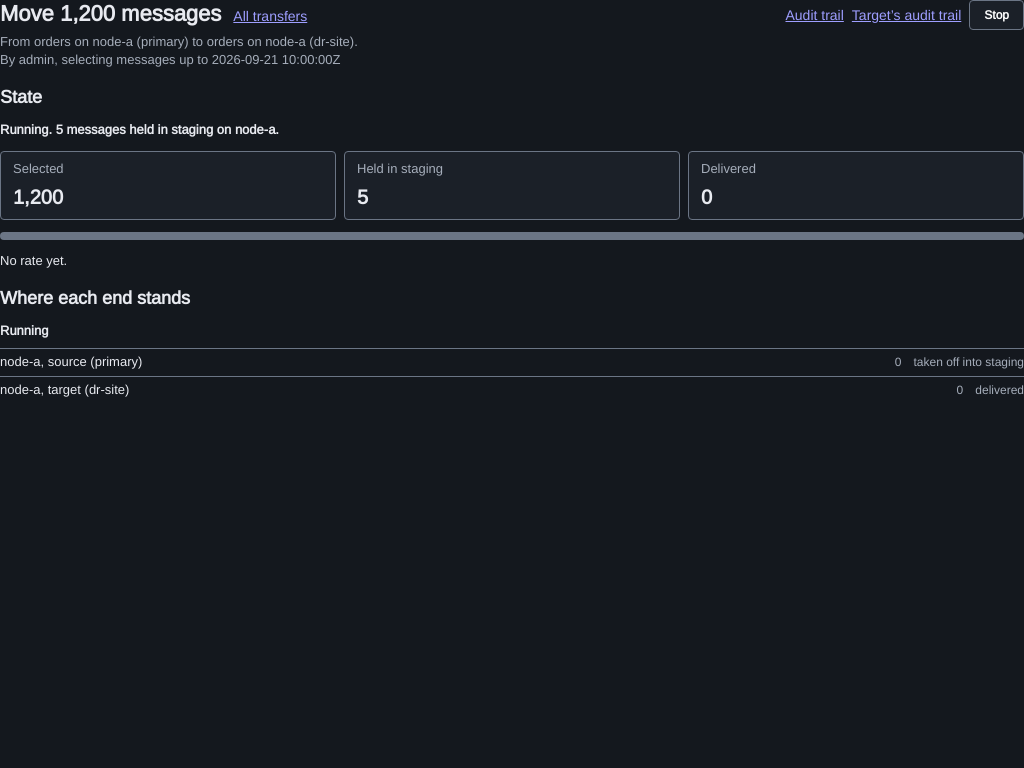
TransferRunView commands › stops a running transfer after saying nothing is lost, and closes the dialog
Click the button "Stop": (997,15) [969,0,1023,30]
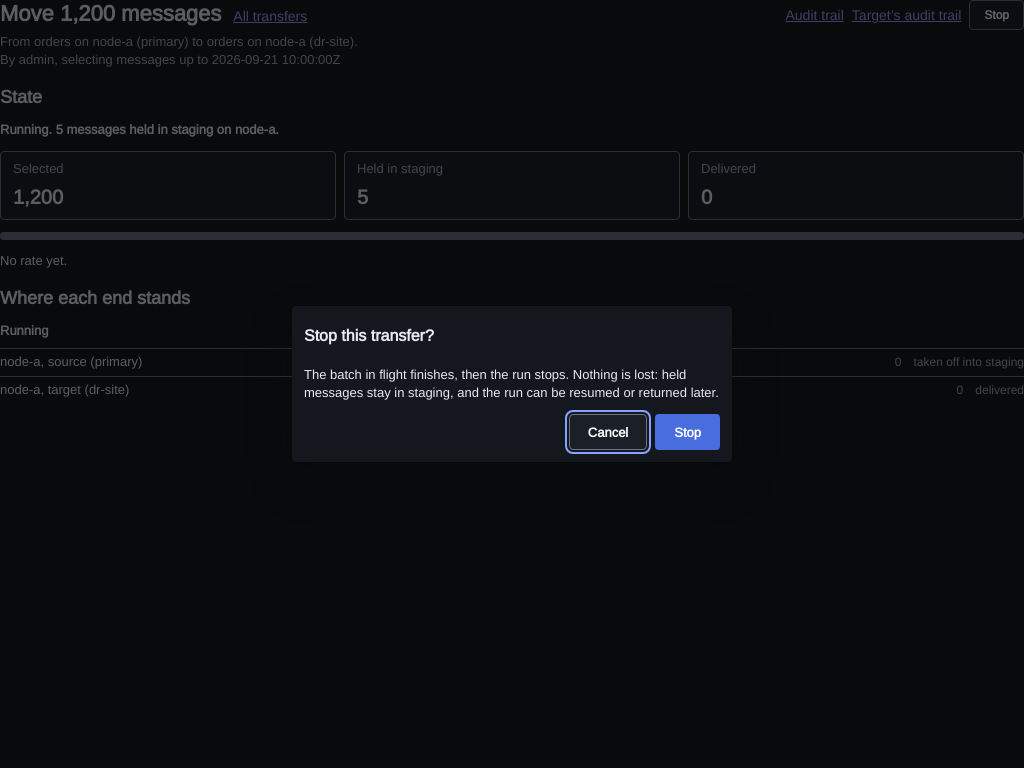
Now the dialog "Stop this transfer?" shows "held messages stay in staging, and the run can be resumed or returned later.", box [292,306,732,462]
Click the button "Stop": (688,432) [655,414,720,450]
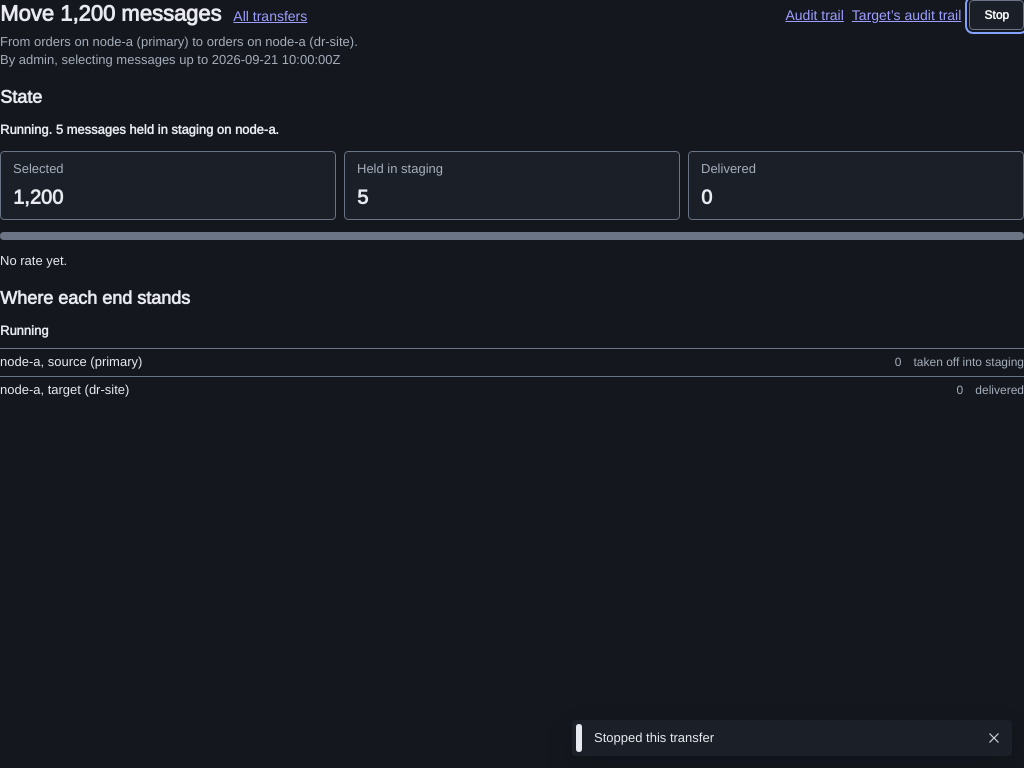
Now the dialog is gone
Now the text "Stopped this transfer" is shown, box [594,729,714,746]
